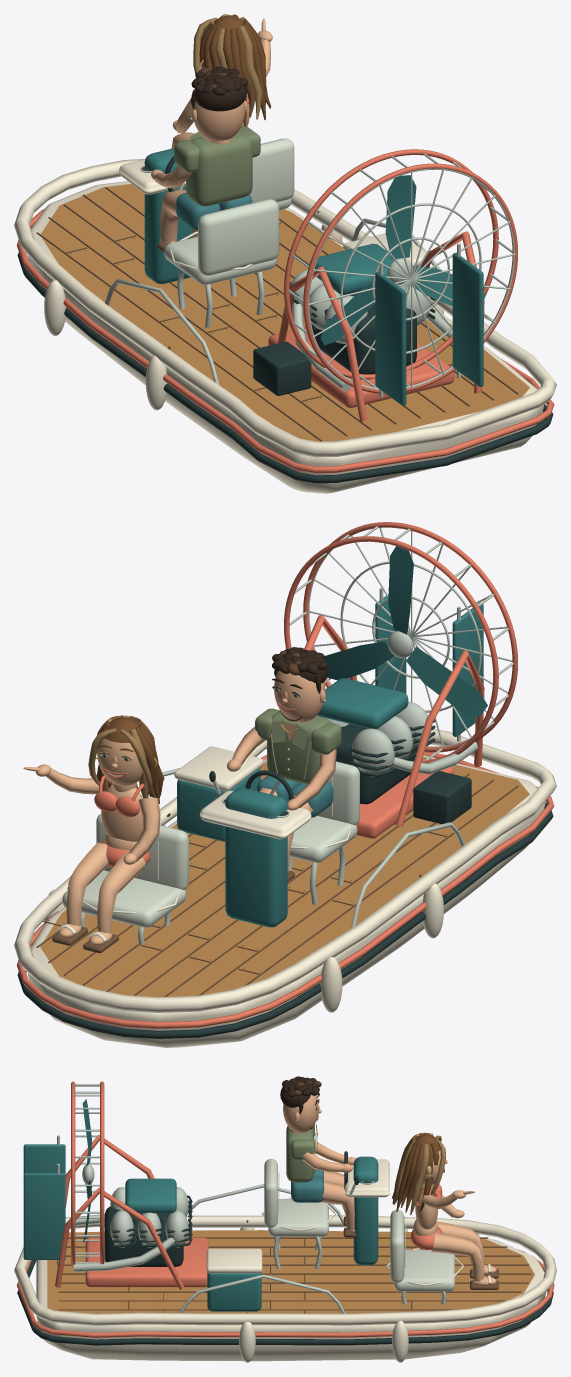
File: airboat-couple-v3.glb
3 renders of one model, top to bottom at view 1: azimuth 30°, elevation 25°; view 2: azimuth 150°, elevation 25°; view 3: azimuth 270°, elevation 25°, orthographic. The views are drawn at different scales.
Visible parts, largest first — view 1: Hull_teak, Hull_cream, Hull_coral, Hull_teal, Hull_chrome, Hull_rubber, Hull_canvas, Barron_shirt, Fan_teal, Hull_seam, NinaHead_hairN, BarronHead_hairB (+5 smaller); view 2: Hull_teak, Hull_cream, Hull_teal, Hull_coral, Hull_chrome, Hull_rubber, Hull_canvas, Nina_skinN, Fan_teal, Hull_seam, Barron_shirt, BarronHead_skinB (+10 smaller); view 3: Hull_cream, Hull_teak, Hull_teal, Hull_coral, Hull_chrome, Hull_rubber, Hull_canvas, Hull_seam, Nina_skinN, NinaHead_hairN, Barron_skinB, Barron_shirt (+8 smaller).
Part boxes in pixels (left/top/right/bottom): Hull_teak: left=40, top=184, right=529, bottom=441; Hull_cream: left=14, top=159, right=556, bottom=493; Hull_coral: left=16, top=149, right=554, bottom=473; Hull_teal: left=144, top=148, right=483, bottom=405; Hull_chrome: left=105, top=153, right=515, bottom=397; Hull_rubber: left=17, top=155, right=553, bottom=483; Hull_canvas: left=164, top=138, right=294, bottom=284; Barron_shirt: left=174, top=126, right=260, bottom=206; Fan_teal: left=320, top=175, right=485, bottom=345; Hull_seam: left=36, top=187, right=518, bottom=441; NinaHead_hairN: left=199, top=14, right=271, bottom=126; BarronHead_hairB: left=191, top=66, right=248, bottom=111; Hull_teak: left=40, top=756, right=529, bottom=997; Hull_cream: left=14, top=729, right=556, bottom=1047; Hull_teal: left=177, top=594, right=483, bottom=927; Hull_coral: left=16, top=522, right=554, bottom=1028; Hull_chrome: left=80, top=526, right=513, bottom=944; Hull_rubber: left=17, top=719, right=553, bottom=1038; Hull_canvas: left=62, top=761, right=359, bottom=927; Nina_skinN: left=58, top=782, right=160, bottom=945; Fan_teal: left=324, top=546, right=487, bottom=716; Hull_seam: left=36, top=773, right=518, bottom=996; Barron_shirt: left=255, top=708, right=341, bottom=784; BarronHead_skinB: left=274, top=670, right=325, bottom=722; Hull_cream: left=14, top=1159, right=556, bottom=1362; Hull_teak: left=47, top=1230, right=534, bottom=1313; Hull_teal: left=23, top=1144, right=378, bottom=1311; Hull_coral: left=16, top=1081, right=554, bottom=1337; Hull_chrome: left=57, top=1084, right=446, bottom=1313; Hull_rubber: left=17, top=1151, right=553, bottom=1345; Hull_canvas: left=264, top=1158, right=454, bottom=1291; Hull_seam: left=58, top=1220, right=531, bottom=1313; Nina_skinN: left=413, top=1184, right=496, bottom=1285; NinaHead_hairN: left=392, top=1132, right=445, bottom=1212; Barron_skinB: left=290, top=1128, right=355, bottom=1232; Barron_shirt: left=286, top=1124, right=314, bottom=1182.
Size of the model in its own units: 3.36 by 3.36 by 7.1.
